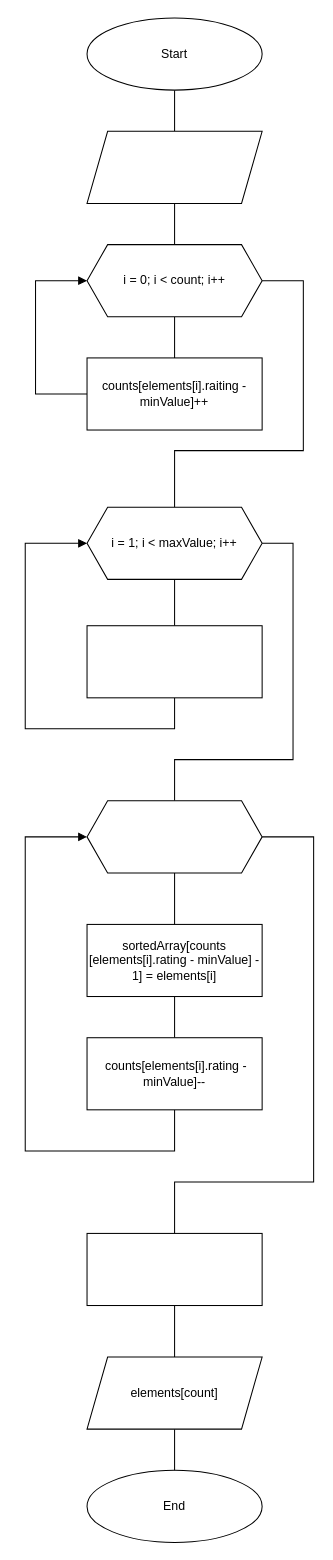
Some shapes in this 333 by 1560 pixel diagram are drawn without their labels. Each missing label, with the box of its shape:
counts[i] += counts[i-1]: (86, 625, 262, 698)
elements = sortedArray: (86, 1232, 262, 1306)
elements[n], count, minValue, maxValue: (86, 130, 262, 203)
i = count - 1; i >= 0; i--: (86, 800, 262, 873)
